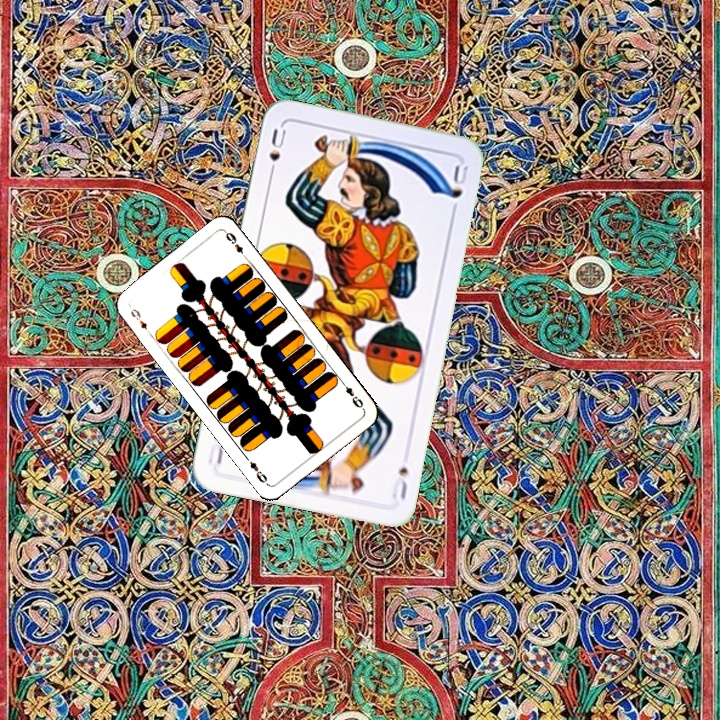E9: (337, 377, 366, 411), (126, 305, 150, 333)
SU: (265, 124, 289, 181), (387, 462, 411, 502)
